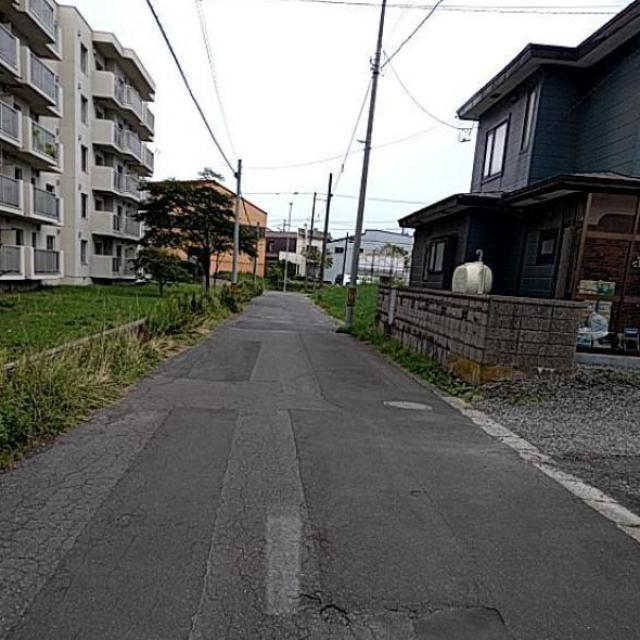Sambungan: (295, 410, 640, 640), (3, 402, 246, 640), (297, 337, 426, 401), (170, 333, 265, 378)
